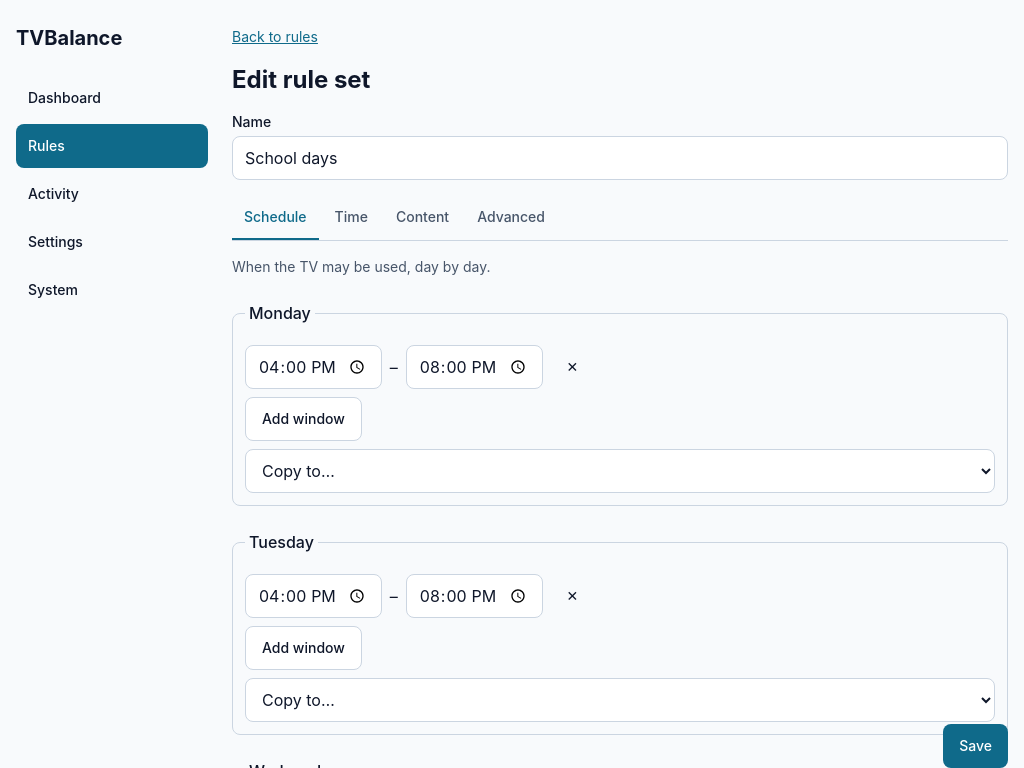
Test: rule editor › turns the budget off
Click the tab "Time": (351,218) [323,196,380,240]
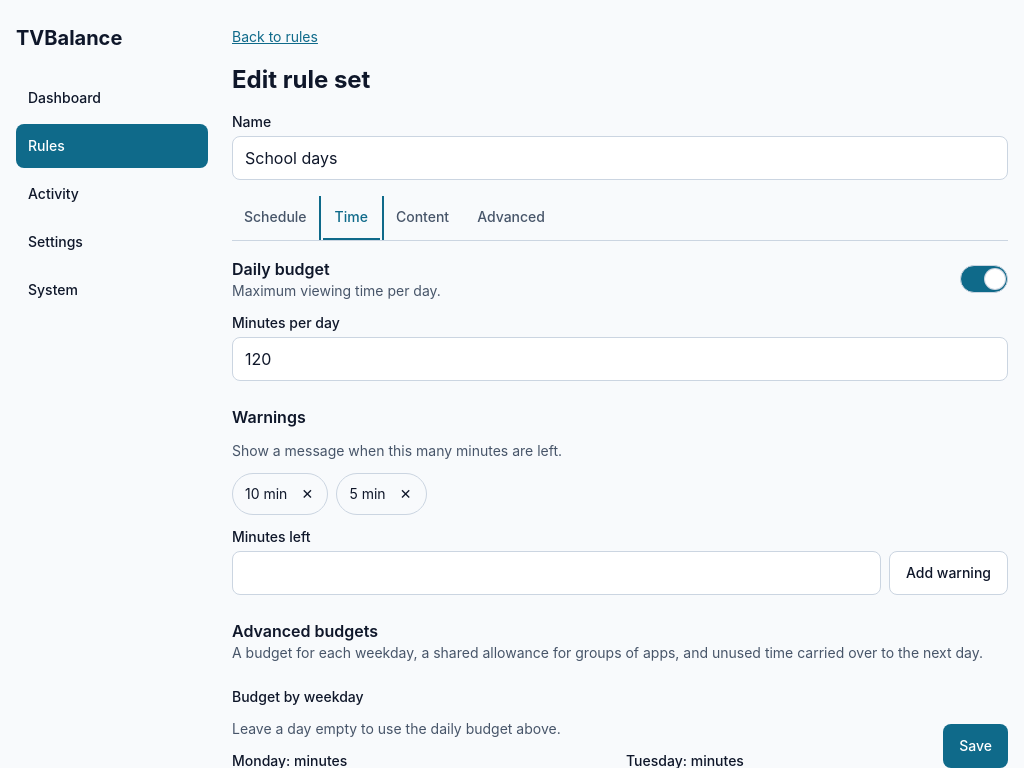
Click the switch named "Daily budget": (984,279) [960,265,1008,293]
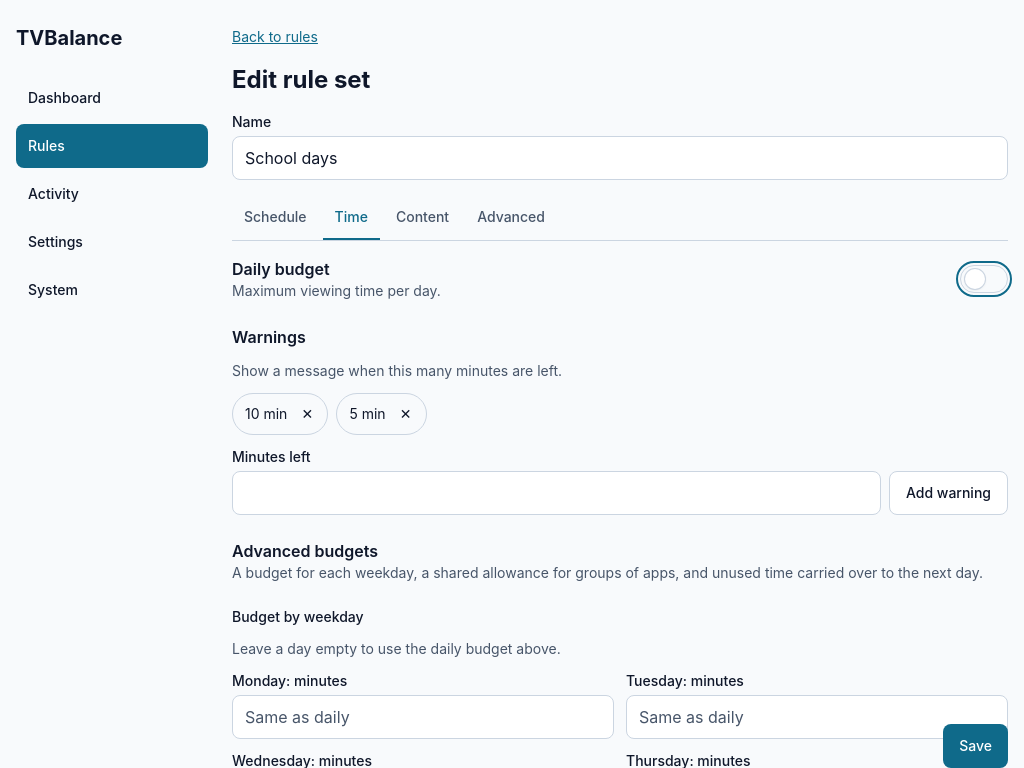
Click the button "Save": (976,746) [943,724,1008,767]
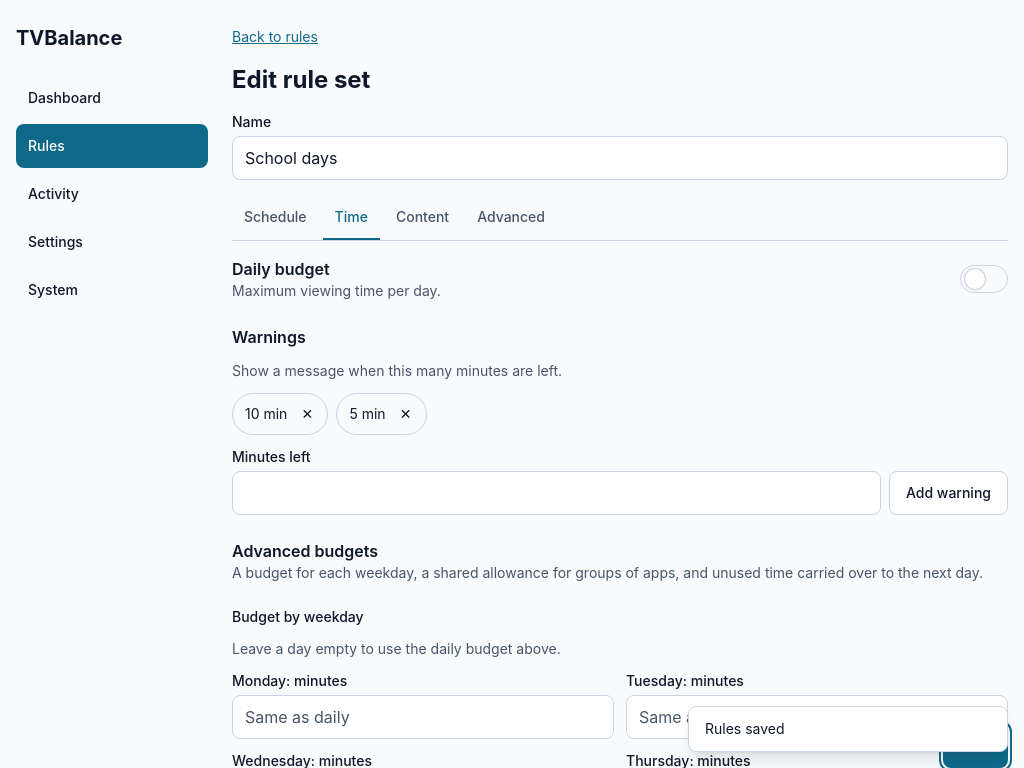
expect the text "Rules saved" is shown: met, box [688,706,1008,752]
